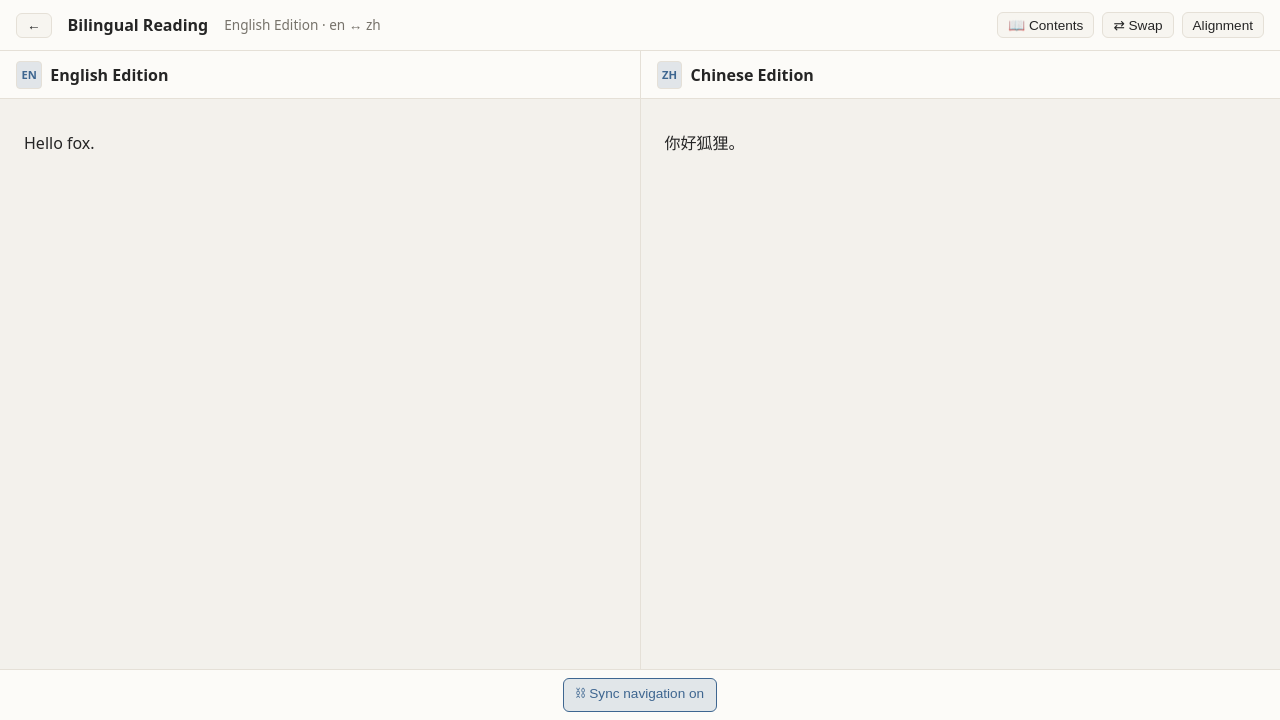
Test: BilingualReader › swap sides puts the other book's pane first
Expected: the text "Hello fox." is shown, 24,132 -> 95,154
Expected: the text "English Edition" is shown, 50,63 -> 168,87
Click the button "⇄ Swap": coordinates (1138, 25) 1102,12 -> 1174,38
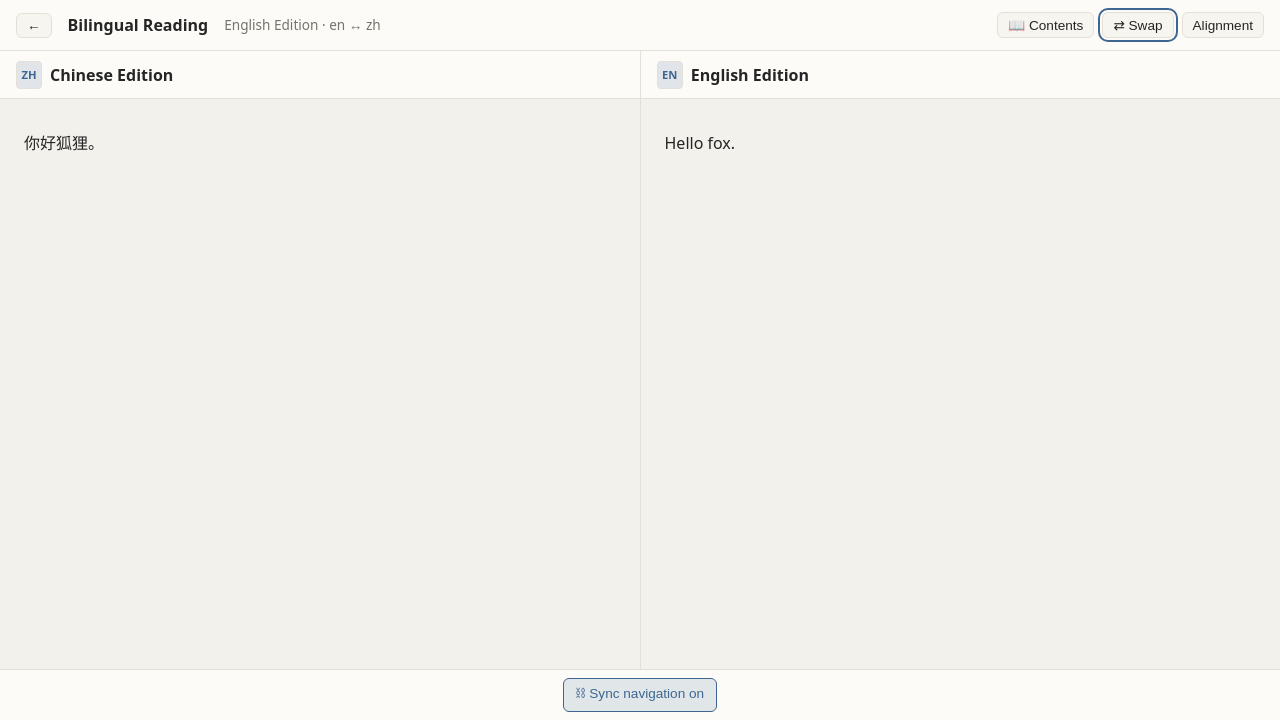
Expected: the text "Chinese Edition" is shown, 50,63 -> 173,87
